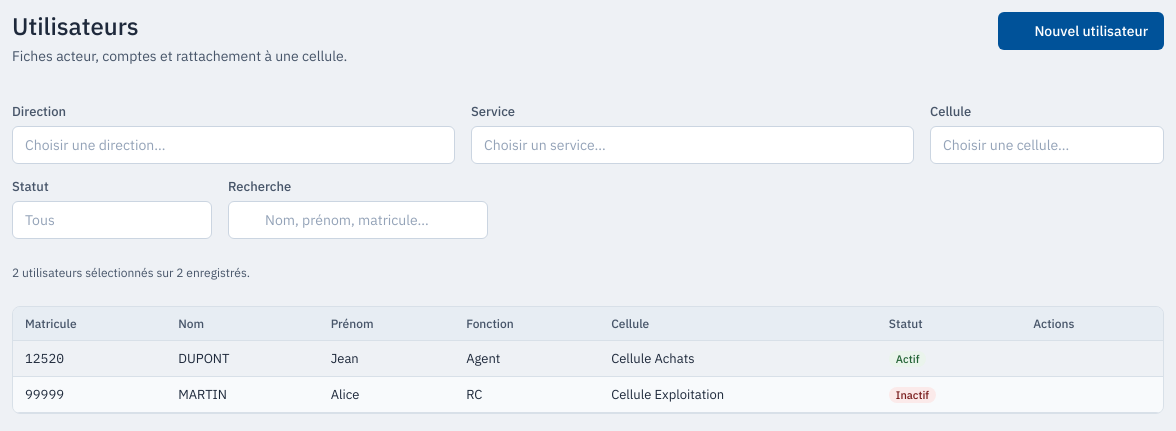
Test case: Utilisateurs › réinitialise Service et Cellule quand la Direction change
Click the button "Choisir une direction…" at {"x": 95, "y": 145}, box [12,126,455,164]
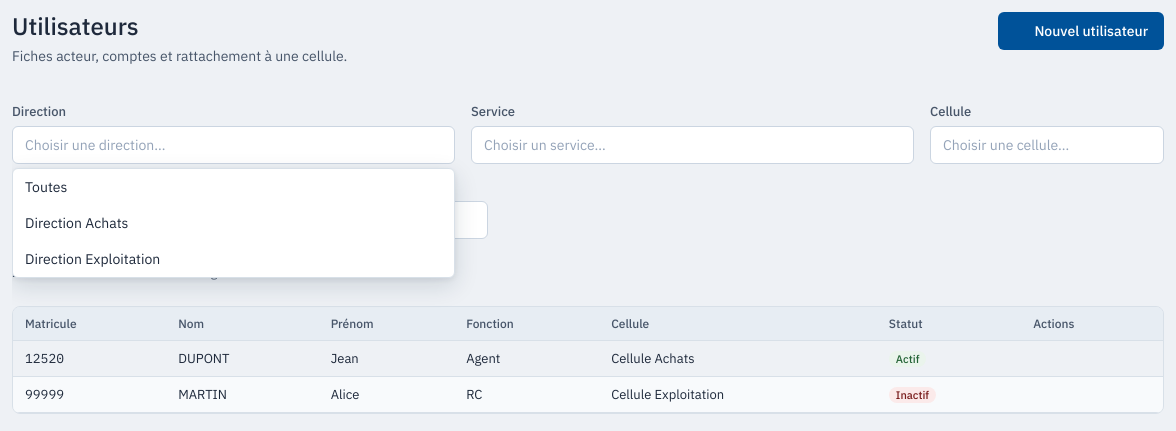
Click the text "Direction Achats" at {"x": 77, "y": 223}, box [25,214,128,232]
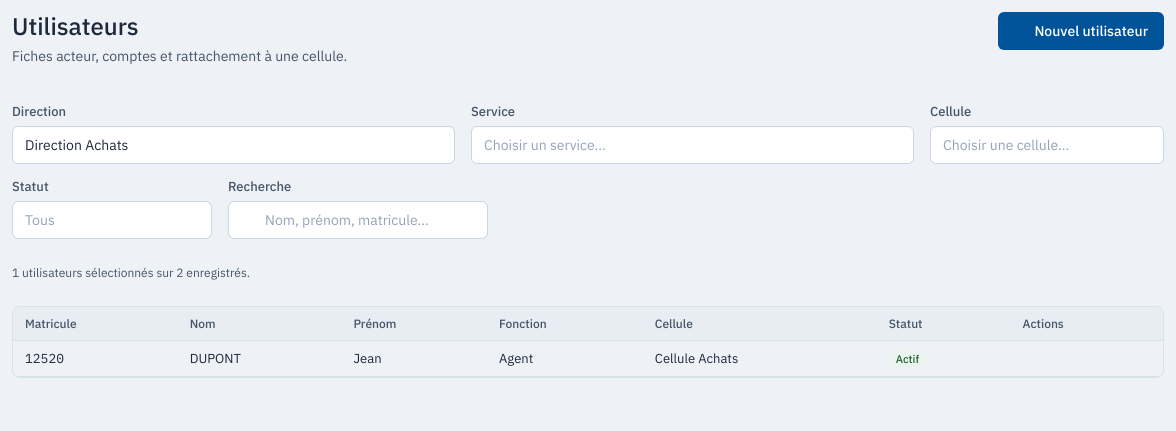
Click the button "Choisir un service…" at {"x": 545, "y": 145}, box [471,126,914,164]
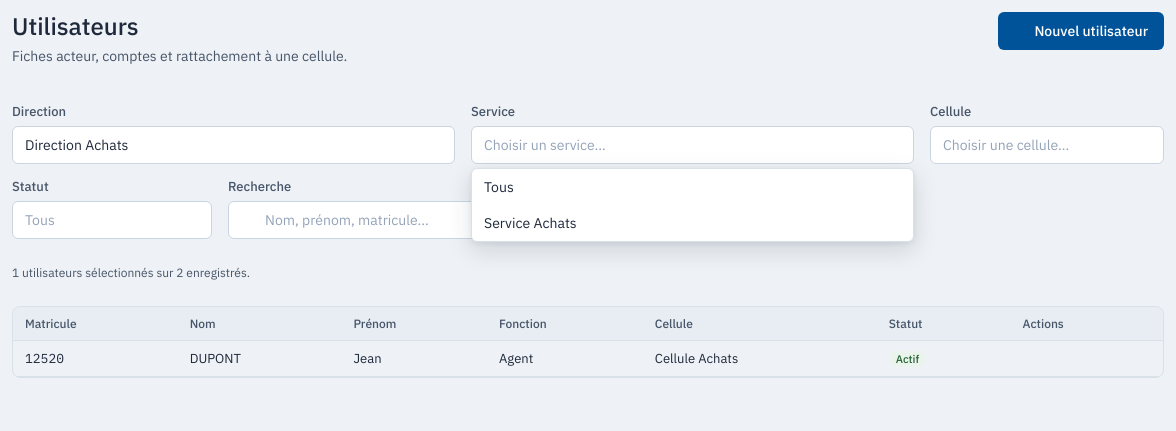
Click the text "Service Achats" at {"x": 530, "y": 223}, box [484,214,577,232]
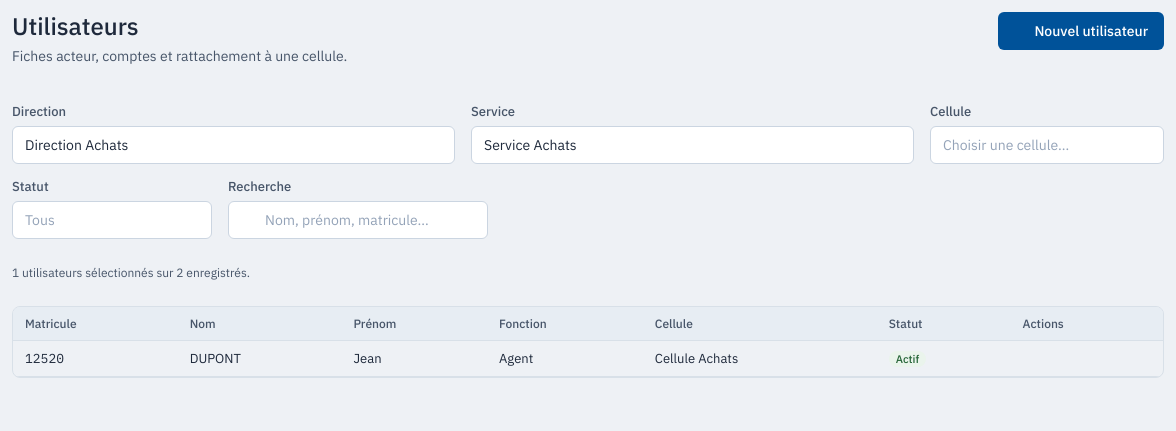
// Changement de direction : le filtre Service repart à "Tous" (les deux utilisateurs redeviennent visibles).
Click the button "Direction Achats" at {"x": 77, "y": 145}, box [12,126,455,164]
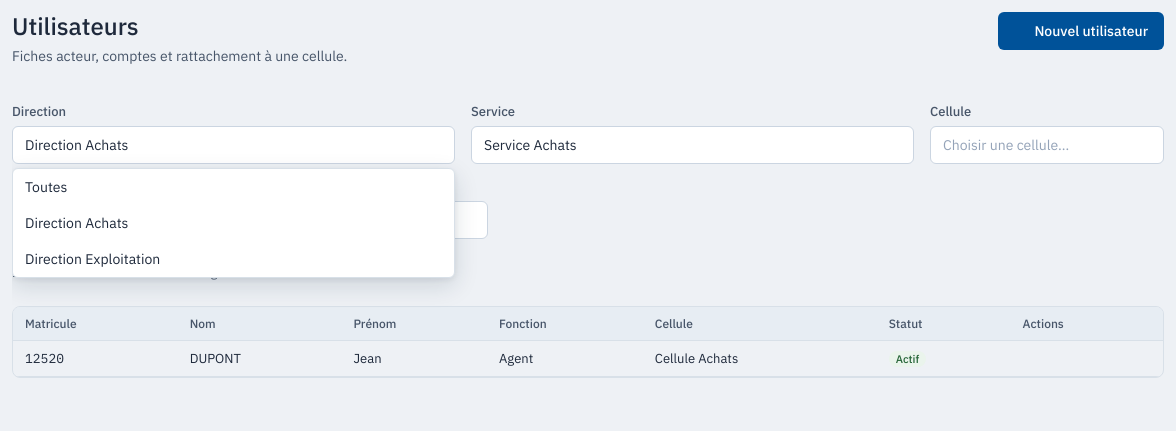
Click the text "Direction Exploitation" at {"x": 93, "y": 259}, box [25,250,160,268]
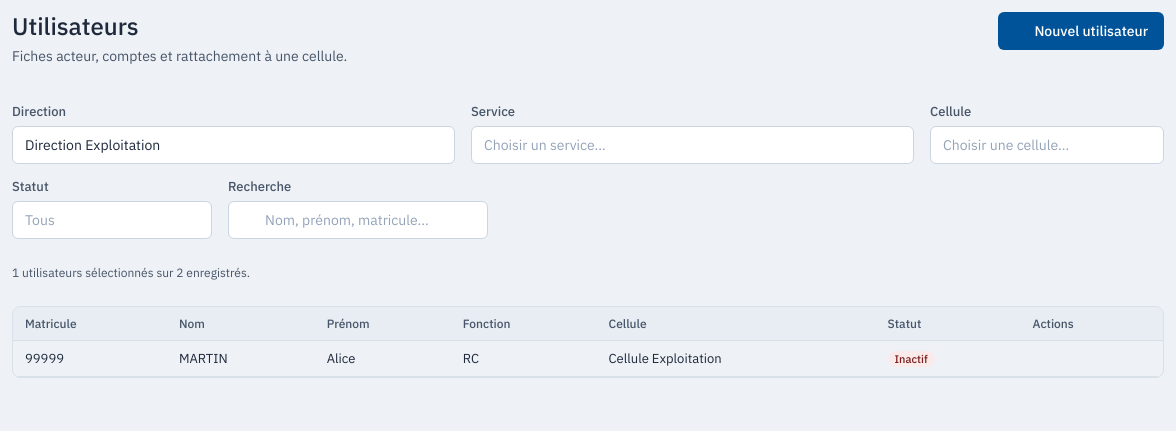
Check: the text "99999" is shown, box [13,341,167,377]
